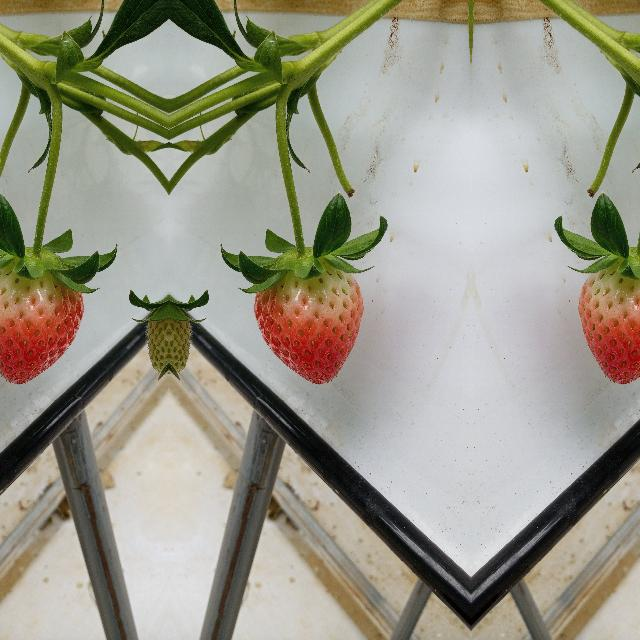Health_100: (253, 256, 363, 384), (0, 256, 83, 384), (578, 256, 640, 384)
